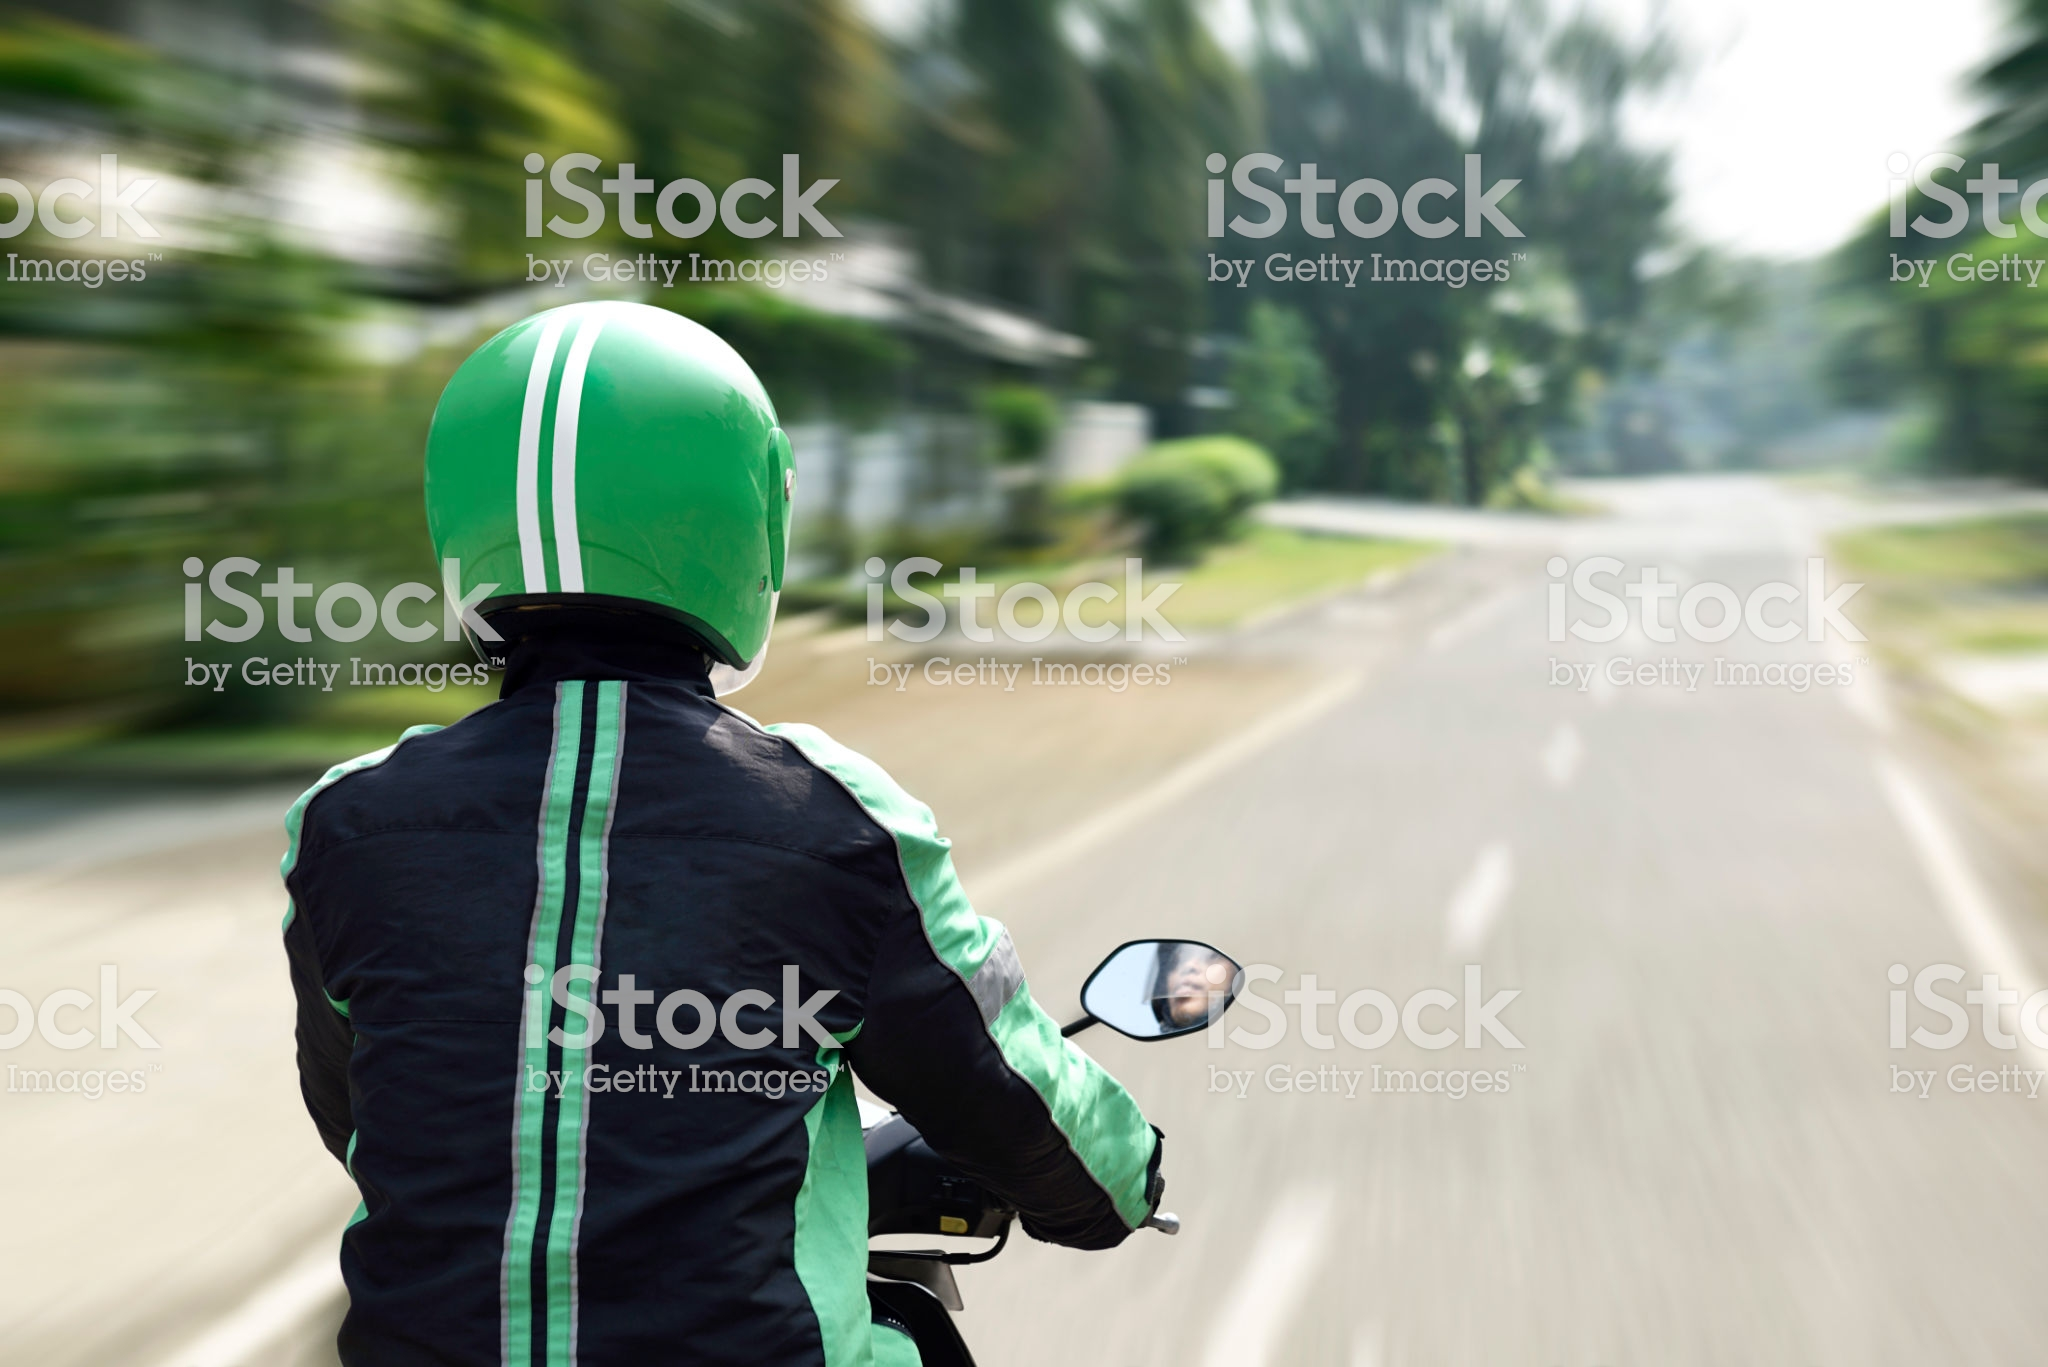helmet: (422, 281, 817, 691)
